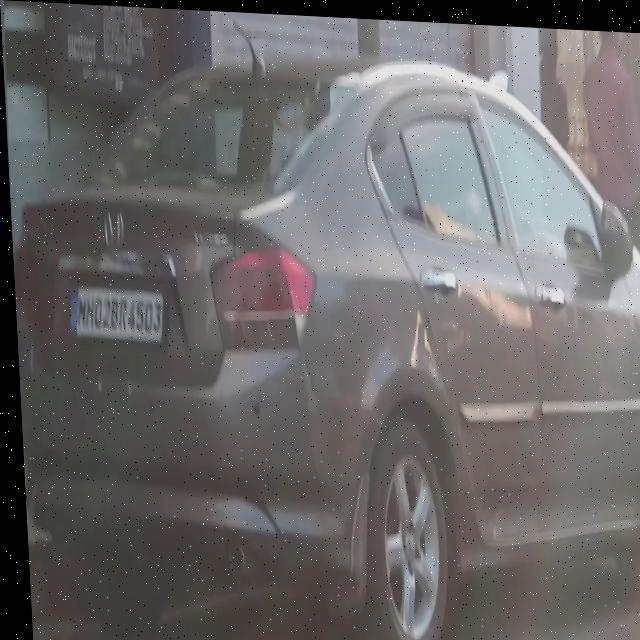plate: (66, 282, 163, 342)
